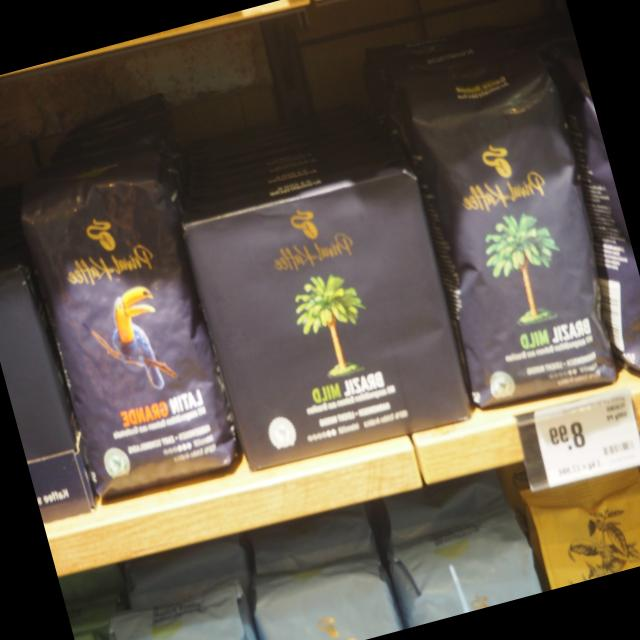BM Bohne: (382, 35, 638, 423)
BM Gemahlen: (173, 152, 486, 484)
LG Bohne: (10, 148, 256, 510)
